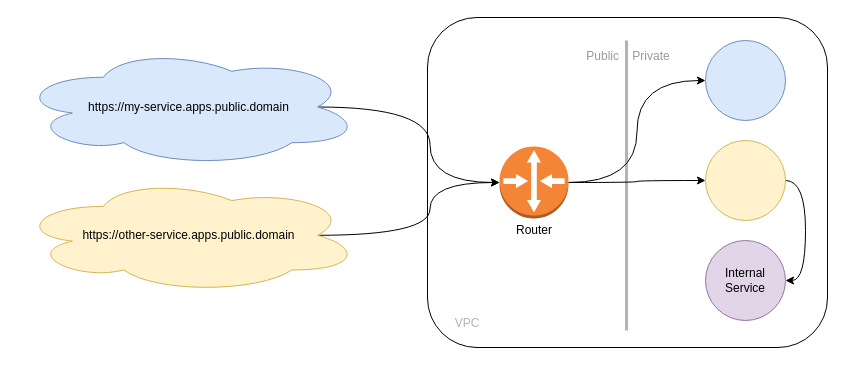
Some shapes in this 845 by 365 pixel diagram are drawn without their labels. Here are the shapes that lost their labels. From the top down, the centre of each, then its label:
At (745,80): "My Service".
At (745,180): "Other Service".
